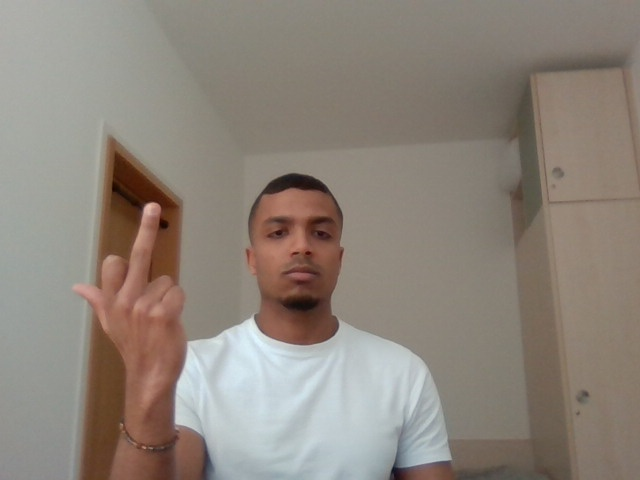fuckyou: (64, 187, 233, 411)
